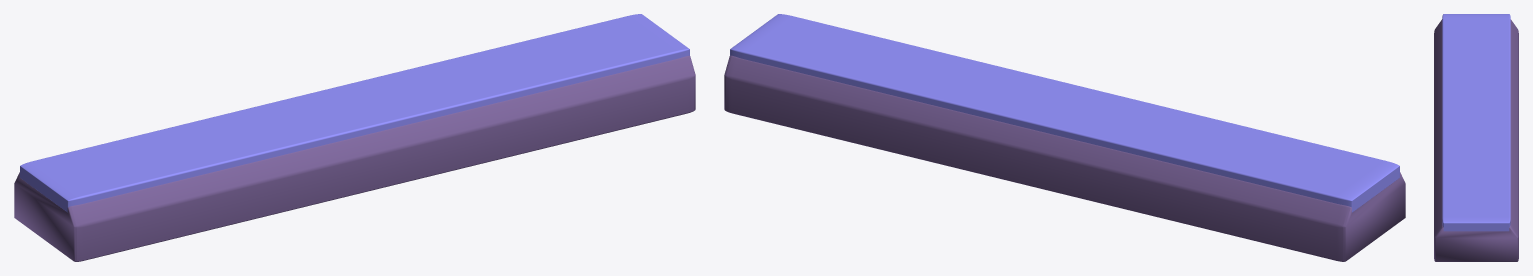
3 views of the same model, side by side, from view 1: azimuth 30°, elevation 25°; view 2: azimuth 150°, elevation 25°; view 3: azimuth 270°, elevation 25° (orthographic). The views are drawn at different scales.
Parts seen in each view (by area): view 1: Cube.020, Plane.025; view 2: Cube.020, Plane.025; view 3: Plane.025, Cube.020.
Boxes of the visible parts, <box> form: Cube.020: <box>14,55,695,261</box>; Plane.025: <box>20,14,689,212</box>; Cube.020: <box>724,55,1405,261</box>; Plane.025: <box>730,14,1399,212</box>; Plane.025: <box>1442,14,1510,231</box>; Cube.020: <box>1434,19,1518,261</box>.
Bounding box in the file's own units: 776 × 70.78 × 133.
